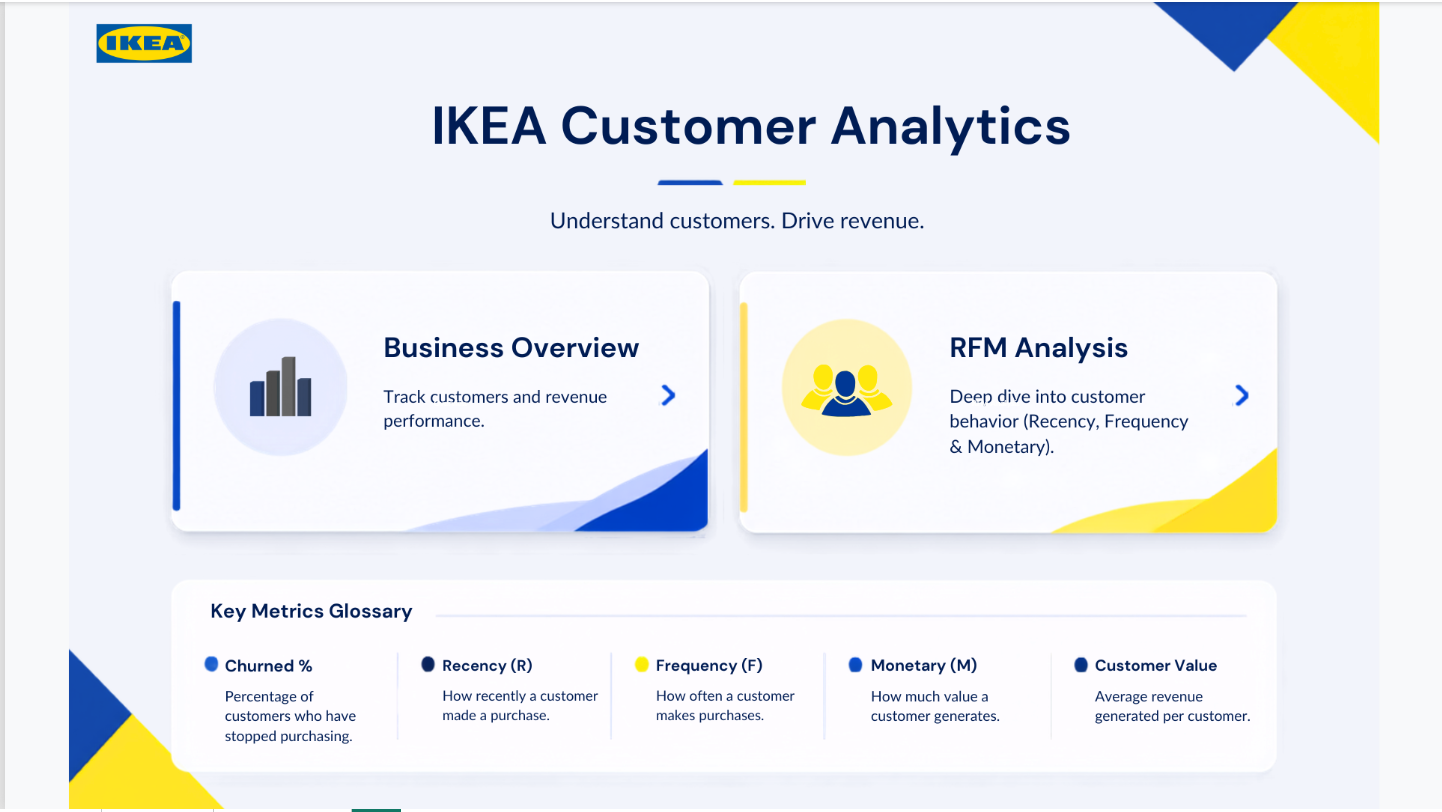

This screenshot's page, from the dashboard's own definition file:
{"tool":"powerbi","page":{"name":"Home","canvas":[1920,1080],"ordinal":0},"visuals":[{"type":"image","box":[93.9,0,184.1,110.4],"z":1000},{"type":"pageNavigator","box":[235.6,364.4,1448.5,344.2],"z":5000}]}

Visuals, with their boxes in screenshot pixels (x1, y1, x2, y2), scaled from the page's 1920x1080 canvas onto the 1442x812 screenshot:
image: <region>71, 0, 209, 83</region>
pageNavigator: <region>177, 274, 1265, 533</region>
